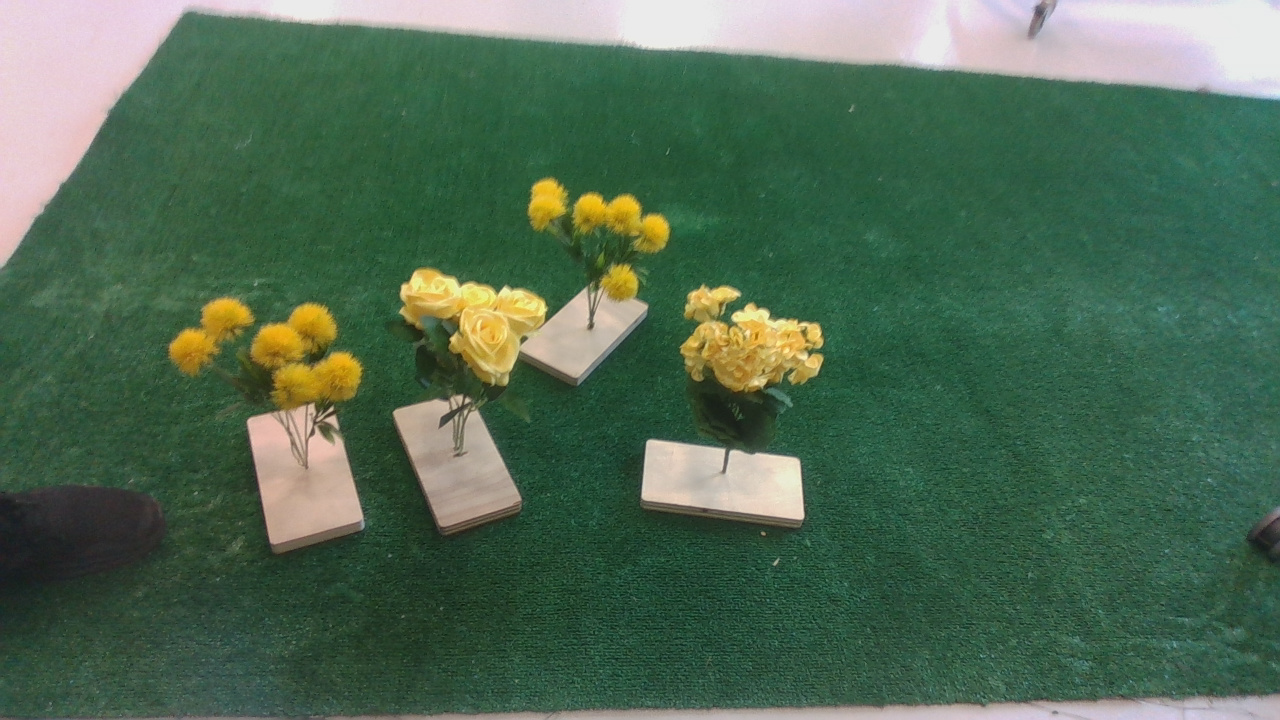dandelion: (163, 292, 376, 420), (507, 165, 685, 278)
geranium: (672, 280, 843, 445)
rose: (389, 259, 557, 391)
